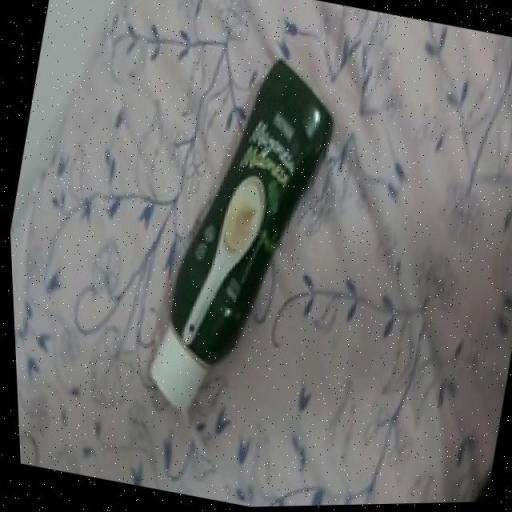plastic: (145, 63, 331, 413)
